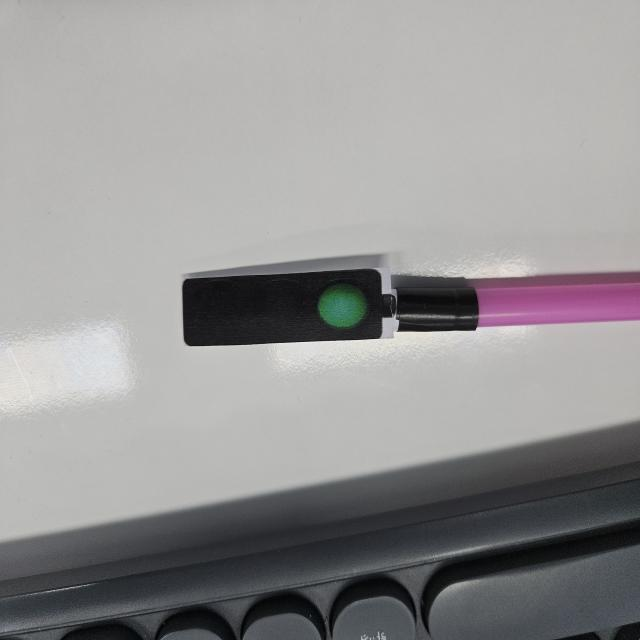traffic light: (179, 256, 397, 349)
